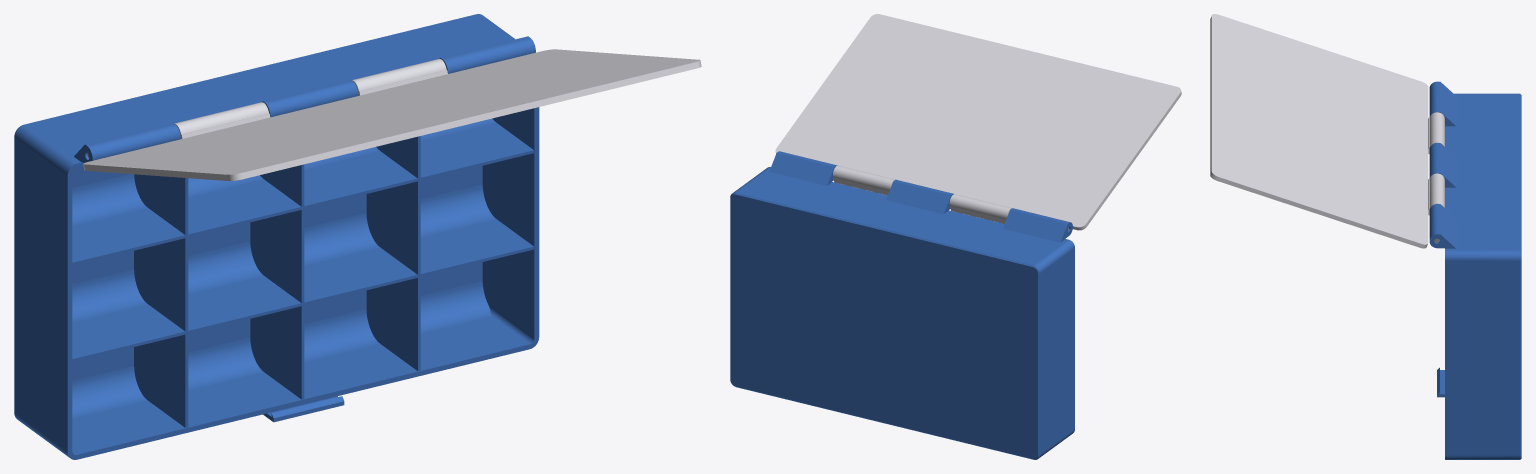
The model's file is variant-COLS_4-ROWS_3.glb.
3 renders of one model, left to right at view 1: azimuth 30°, elevation 25°; view 2: azimuth 150°, elevation 25°; view 3: azimuth 270°, elevation 25°, orthographic. The views are drawn at different scales.
Visible parts, largest first — view 1: 0:Kasten, 1:Deckel; view 2: 0:Kasten, 1:Deckel; view 3: 1:Deckel, 0:Kasten.
Part boxes in pixels (x1,y1,x2,y2): 0:Kasten: [14, 14, 539, 459]; 1:Deckel: [83, 49, 701, 181]; 0:Kasten: [730, 151, 1074, 459]; 1:Deckel: [775, 14, 1181, 230]; 1:Deckel: [1210, 14, 1444, 248]; 0:Kasten: [1429, 81, 1521, 459].
Bounding box in the file's own units: 200 × 167 × 162.
